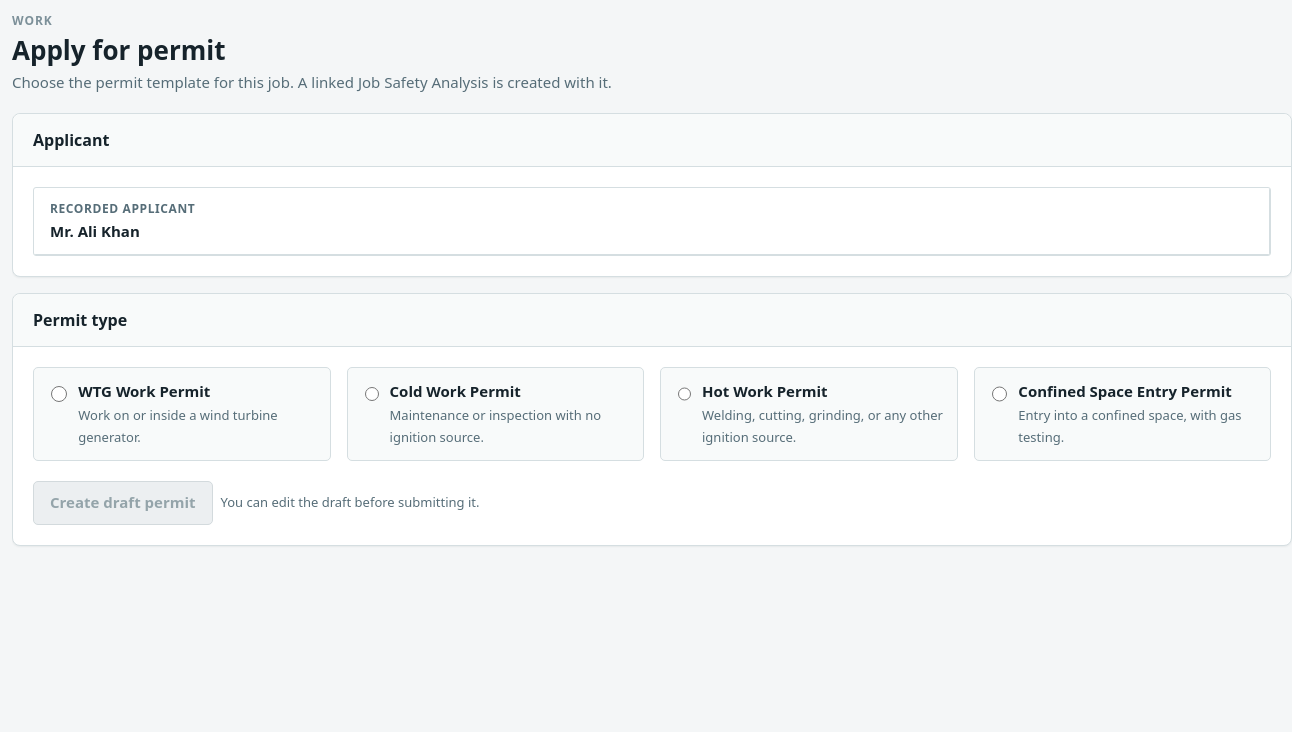
failure › reports a refusal from the server without technical detail
Click the radio button labelled "WTG Work Permit Work on or inside a wind turbine generator.".
click(59, 394)  # box [51,385,67,403]
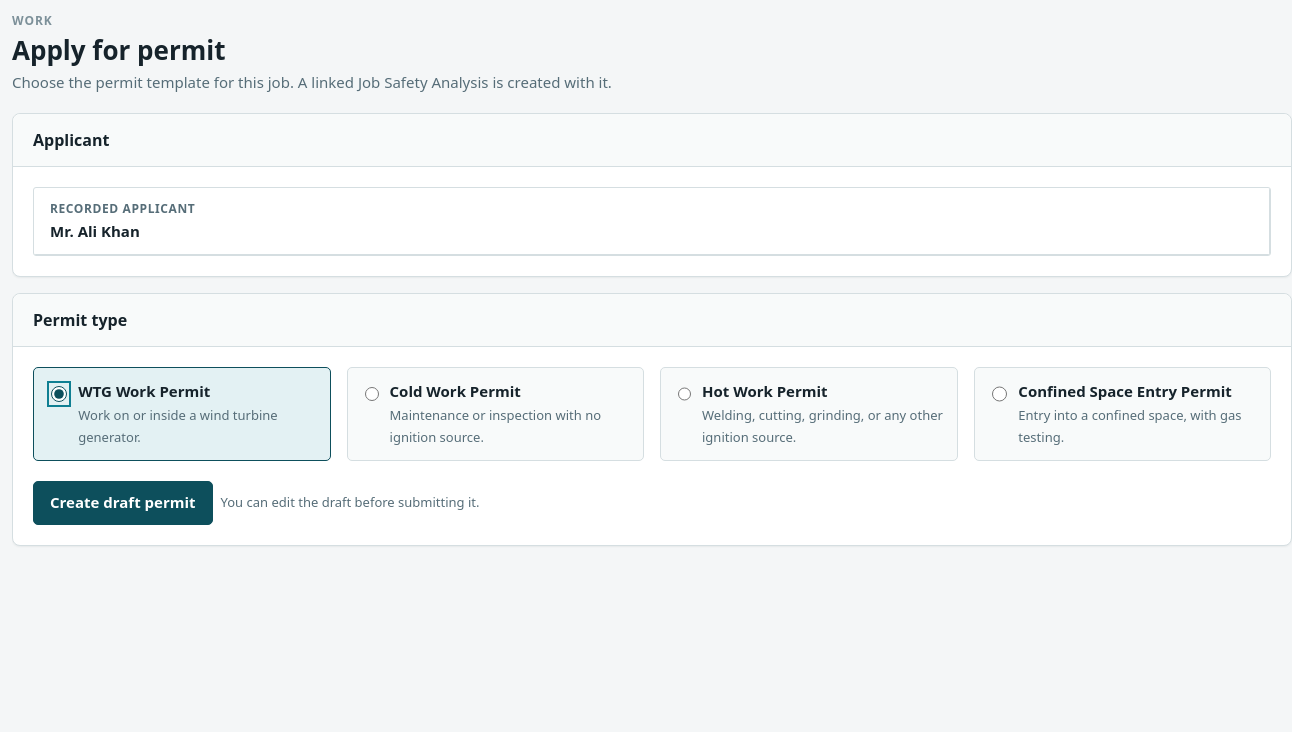
Click the button "Create draft permit".
click(123, 503)  # box [33,481,212,525]
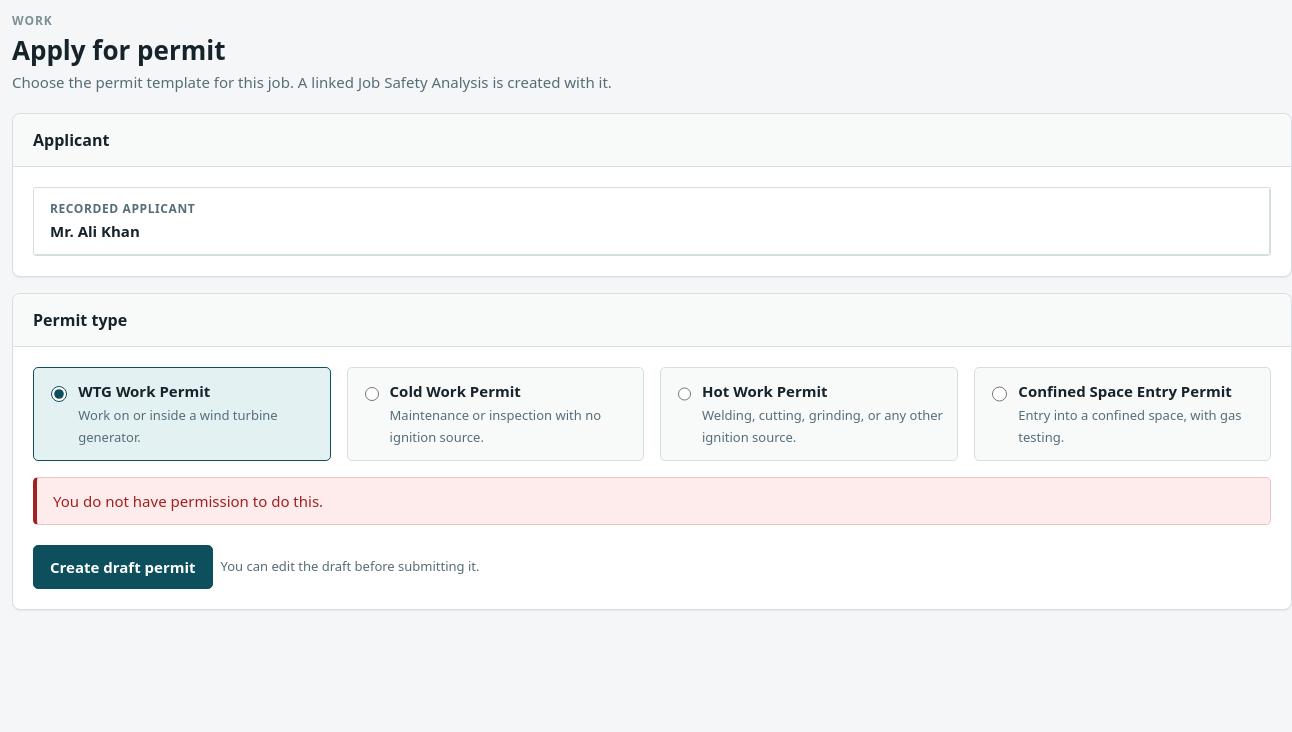
Expected: the message shows "do not have permission", [53,491,323,511]
